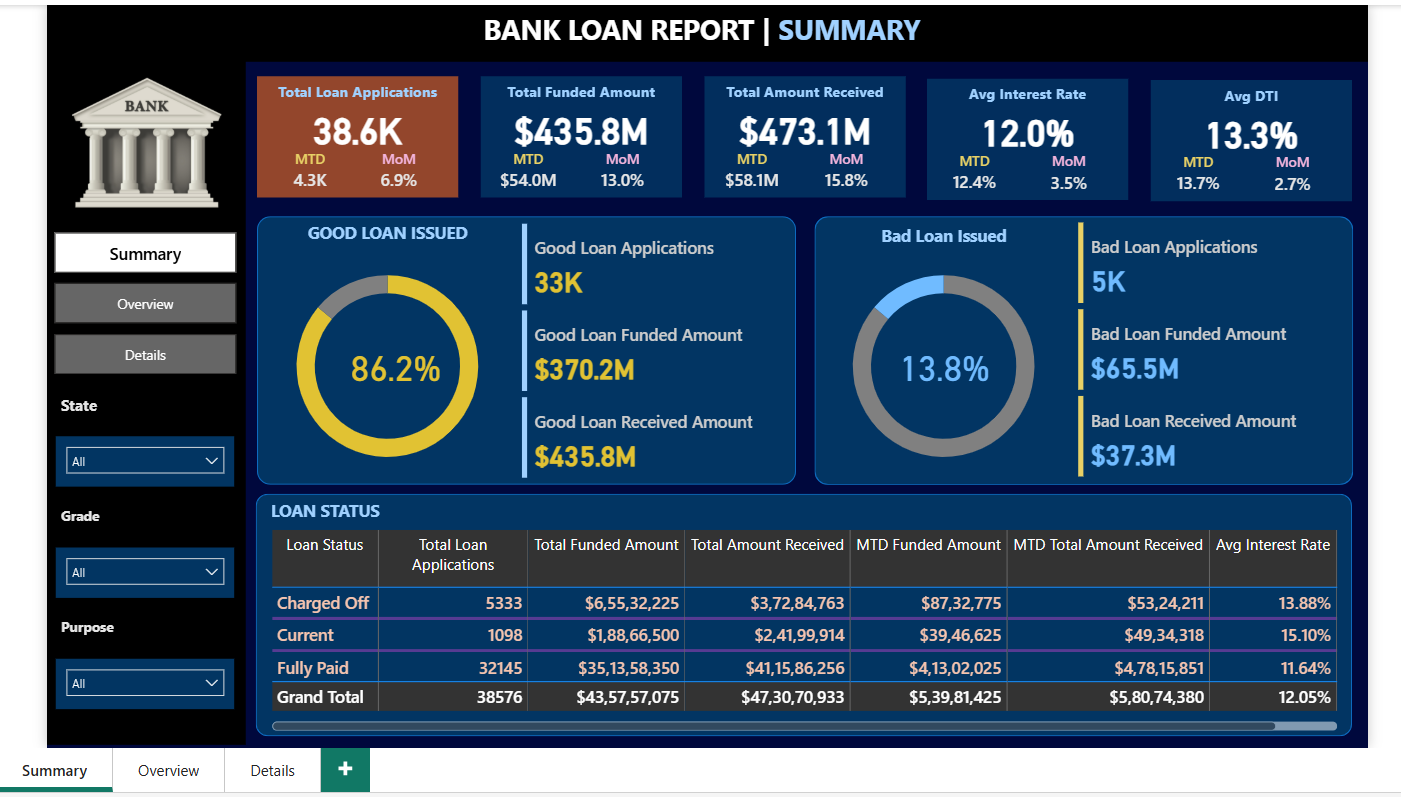

The dashboard page shown, as its layout file describes it:
{"tool":"powerbi","page":{"name":"Summary","canvas":[1280,720],"ordinal":0},"visuals":[{"type":"shape","box":[0,50.8,192.5,665.8],"z":0},{"type":"shape","box":[203.4,69,194.9,117.4],"z":0,"group":"g1"},{"type":"shape","box":[419.7,69,194.9,117.4],"z":0,"group":"g2"},{"type":"shape","box":[636.1,69,194.9,117.4],"z":0,"group":"g3"},{"type":"shape","box":[852.5,71.4,194.9,117.4],"z":0,"group":"g4"},{"type":"shape","box":[1068.9,72.6,194.9,117.4],"z":0,"group":"g5"},{"type":"card","fields":{"Values":["bank_loan_data.Total Loan Applications"]},"box":[203.4,95.6,194.9,47.2],"z":1000,"group":"g1"},{"type":"card","fields":{"Values":["bank_loan_data.Total Funded Amount"]},"box":[419.7,95.6,194.9,47.2],"z":1000,"group":"g2"},{"type":"card","fields":{"Values":["bank_loan_data.Total Amount Received"]},"box":[636.1,95.6,194.9,47.2],"z":1000,"group":"g3"},{"type":"card","fields":{"Values":["bank_loan_data.Avg Interest Rate"]},"box":[852.5,98,194.9,47.2],"z":1000,"group":"g4"},{"type":"card","fields":{"Values":["bank_loan_data.Avg DTI"]},"box":[1068.9,99.2,194.9,47.2],"z":1000,"group":"g5"},{"type":"shape","box":[203.4,204.6,522,260],"z":1000},{"type":"shape","box":[0,0,1280.3,55],"z":2000},{"type":"textbox","box":[203.4,69,194.9,35.1],"z":2000,"group":"g1"},{"type":"textbox","box":[419.7,69,194.9,35.1],"z":2000,"group":"g2"},{"type":"textbox","box":[636.1,69,194.9,35.1],"z":2000,"group":"g3"},{"type":"textbox","box":[852.5,71.4,194.9,35.1],"z":2000,"group":"g4"},{"type":"textbox","box":[1068.9,72.6,194.9,35.1],"z":2000,"group":"g5"},{"type":"card","title":"MTD","fields":{"Values":["bank_loan_data.MTD Funded Amount"]},"box":[427.8,139,75.1,46],"z":3000,"group":"g2"},{"type":"card","title":"MTD","fields":{"Values":["bank_loan_data.MTD Total Amount Received"]},"box":[644.2,139,75.1,46],"z":3000,"group":"g3"},{"type":"card","title":"MTD","fields":{"Values":["bank_loan_data.MTD Loan Applications"]},"box":[224,139.2,61.7,47.2],"z":3000,"group":"g1"},{"type":"card","title":"MTD","fields":{"Values":["bank_loan_data.MTD Avg Int Rate"]},"box":[860.6,141.4,75.1,46],"z":3000,"group":"g4"},{"type":"card","title":"MTD","fields":{"Values":["bank_loan_data.MTD Avg DTI"]},"box":[1077,142.6,75.1,46],"z":3000,"group":"g5"},{"type":"textbox","box":[232.4,204.6,194.9,42.4],"z":3000},{"type":"card","title":"MoM","fields":{"Values":["bank_loan_data.MoM Loan Applications"]},"box":[309.9,139.2,61.7,47.2],"z":4000,"group":"g1"},{"type":"card","title":"MoM","fields":{"Values":["bank_loan_data.MoM Total Funded Amount"]},"box":[526.2,139.2,61.7,47.2],"z":4000,"group":"g2"},{"type":"card","title":"MoM","fields":{"Values":["bank_loan_data.MoM Total Amount Received"]},"box":[742.6,139.2,61.7,47.2],"z":4000,"group":"g3"},{"type":"card","title":"MoM","fields":{"Values":["bank_loan_data.MoM Avg Int Rate"]},"box":[959,141.6,61.7,47.2],"z":4000,"group":"g4"},{"type":"card","title":"MoM","fields":{"Values":["bank_loan_data.MoM Avg DTI"]},"box":[1175.4,142.8,61.7,47.2],"z":4000,"group":"g5"},{"type":"card","fields":{"Values":["bank_loan_data.Good Loan %"]},"box":[277.2,325.6,121,48.4],"z":4000},{"type":"donutChart","fields":{"Category":["bank_loan_data.Good v Bad Loan"],"Y":["bank_loan_data.Total Loan Applications"]},"box":[204.6,234.8,250.6,230],"z":5000},{"type":"textbox","box":[417.6,0,444.3,55.7],"z":6000},{"type":"group","id":"g1","title":"Group 1","box":[203.4,69,194.9,117.4],"z":7000},{"type":"group","id":"g2","title":"Group 1","box":[419.7,69,194.9,117.4],"z":8000},{"type":"shape","box":[202.2,473.3,1061.6,234.8],"z":9000},{"type":"group","id":"g3","title":"Group 1","box":[636.1,69,194.9,117.4],"z":10000},{"type":"group","id":"g4","title":"Group 1","box":[852.5,71.4,194.9,117.4],"z":11000},{"type":"group","id":"g5","title":"Group 1","box":[1068.9,72.6,194.9,117.4],"z":12000},{"type":"shape","box":[743.2,204.6,521.7,260.3],"z":13000},{"type":"cardVisual","fields":{"Data":["bank_loan_data.Good Loan Applications","bank_loan_data.Good Loan Funded Amount","bank_loan_data.Good Loan Received Amount"]},"box":[455.1,207,269.9,257.8],"z":14000},{"type":"donutChart","fields":{"Category":["bank_loan_data.Good v Bad Loan"],"Y":["bank_loan_data.Total Loan Applications"]},"box":[743.2,234.8,250.6,230],"z":15000},{"type":"textbox","box":[771.1,207,194.9,42.4],"z":16000},{"type":"card","fields":{"Values":["bank_loan_data.Bad Loan %"]},"box":[808.6,325.6,121,48.4],"z":17000},{"type":"cardVisual","fields":{"Data":["bank_loan_data.Bad Loan Applications","bank_loan_data.Bad Loan Funded Amount","bank_loan_data.Bad Loan Received Amount"]},"box":[993.8,205.8,269.9,257.8],"z":18000},{"type":"tableEx","fields":{"Values":["bank_loan_data.loan_status","bank_loan_data.Total Loan Applications","bank_loan_data.Total Funded Amount","bank_loan_data.Total Amount Received","bank_loan_data.MTD Funded Amount","bank_loan_data.MTD Total Amount Received","bank_loan_data.Avg Interest Rate","bank_loan_data.Avg DTI"]},"box":[211.8,503.6,1042.2,204.6],"z":19000},{"type":"textbox","box":[211.8,473.3,194.9,42.4],"z":20000},{"type":"slicer","fields":{"Values":["bank_loan_data.address_state"]},"box":[8.5,418,173.1,48.4],"z":21000},{"type":"textbox","box":[8.5,372.7,69,31.5],"z":22000},{"type":"slicer","fields":{"Values":["bank_loan_data.grade"]},"box":[8.5,525.5,173.1,48.4],"z":23000},{"type":"textbox","box":[8.5,480.2,69,31.5],"z":24000},{"type":"slicer","fields":{"Values":["bank_loan_data.purpose"]},"box":[8.5,633.1,173.1,48.4],"z":25000},{"type":"textbox","box":[8.5,587.8,87.2,31.5],"z":26000},{"type":"image","box":[19.4,59.3,154.9,147.7],"z":27000},{"type":"pageNavigator","box":[7.3,220.8,176.7,138],"z":28000}]}

Visuals, with their boxes on the page's 1280x720 design canvas (x1, y1, x2, y2). These are canvas units, not pixel positions in the 1401x797 screenshot, which may show the page scaled, cropped or inside an application window:
shape: [0,51,192,717]
shape: [203,69,398,186]
shape: [420,69,615,186]
shape: [636,69,831,186]
shape: [852,71,1047,189]
shape: [1069,73,1264,190]
card - bank_loan_data.Total Loan Applications: [203,96,398,143]
card - bank_loan_data.Total Funded Amount: [420,96,615,143]
card - bank_loan_data.Total Amount Received: [636,96,831,143]
card - bank_loan_data.Avg Interest Rate: [852,98,1047,145]
card - bank_loan_data.Avg DTI: [1069,99,1264,146]
shape: [203,205,725,465]
shape: [0,0,1280,55]
textbox: [203,69,398,104]
textbox: [420,69,615,104]
textbox: [636,69,831,104]
textbox: [852,71,1047,106]
textbox: [1069,73,1264,108]
"MTD" card: [428,139,503,185]
"MTD" card: [644,139,719,185]
"MTD" card: [224,139,286,186]
"MTD" card: [861,141,936,187]
"MTD" card: [1077,143,1152,189]
textbox: [232,205,427,247]
"MoM" card: [310,139,372,186]
"MoM" card: [526,139,588,186]
"MoM" card: [743,139,804,186]
"MoM" card: [959,142,1021,189]
"MoM" card: [1175,143,1237,190]
card - bank_loan_data.Good Loan %: [277,326,398,374]
donutChart - bank_loan_data.Good v Bad Loan x bank_loan_data.Total Loan Applications: [205,235,455,465]
textbox: [418,0,862,56]
"Group 1" group: [203,69,398,186]
"Group 1" group: [420,69,615,186]
shape: [202,473,1264,708]
"Group 1" group: [636,69,831,186]
"Group 1" group: [852,71,1047,189]
"Group 1" group: [1069,73,1264,190]
shape: [743,205,1265,465]
cardVisual - bank_loan_data.Good Loan Applications x bank_loan_data.Good Loan Funded Amount: [455,207,725,465]
donutChart - bank_loan_data.Good v Bad Loan x bank_loan_data.Total Loan Applications: [743,235,994,465]
textbox: [771,207,966,249]
card - bank_loan_data.Bad Loan %: [809,326,930,374]
cardVisual - bank_loan_data.Bad Loan Applications x bank_loan_data.Bad Loan Funded Amount: [994,206,1264,464]
tableEx - bank_loan_data.loan_status x bank_loan_data.Total Loan Applications: [212,504,1254,708]
textbox: [212,473,407,516]
slicer - bank_loan_data.address_state: [8,418,182,466]
textbox: [8,373,78,404]
slicer - bank_loan_data.grade: [8,526,182,574]
textbox: [8,480,78,512]
slicer - bank_loan_data.purpose: [8,633,182,682]
textbox: [8,588,96,619]
image: [19,59,174,207]
pageNavigator: [7,221,184,359]
